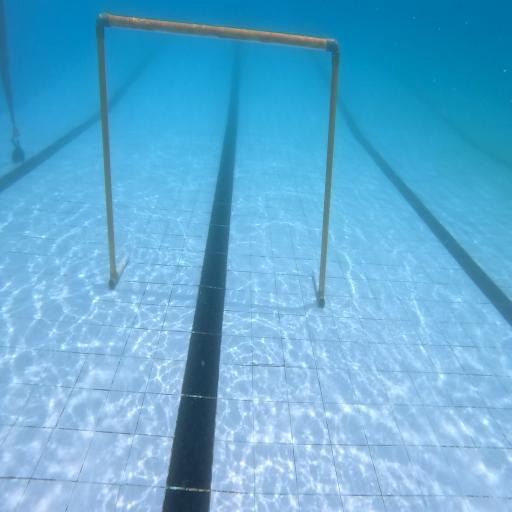gate: (95, 12, 340, 309)
